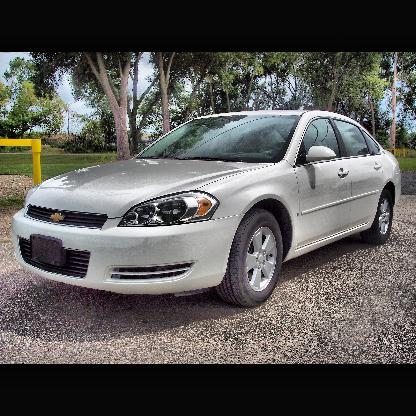Chevrolet Impala Sedan 2007: (8, 94, 407, 325)
